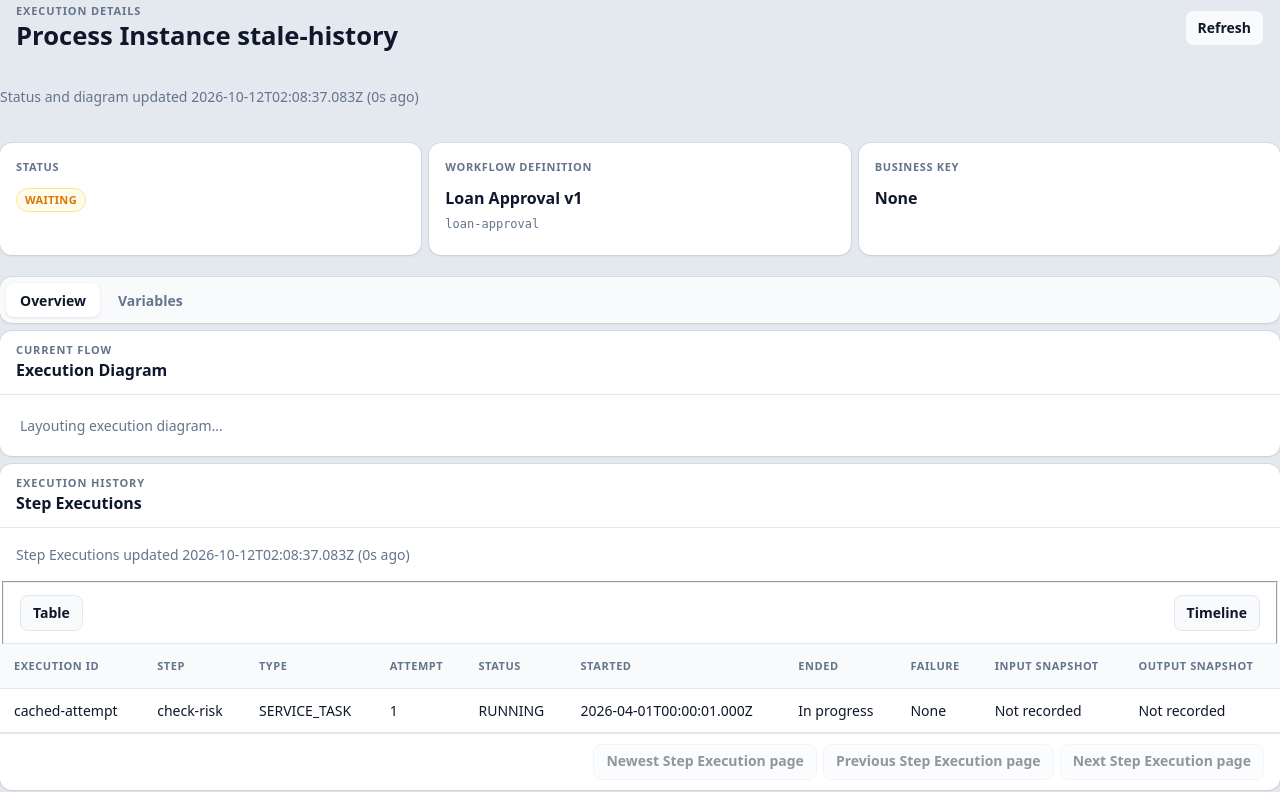
keeps cached Step Executions visible during a temporary failure
The width and height of the screenshot is (1280, 792).
Expected: the cell "cached-attempt" is shown, [0, 688, 143, 732]
Click the button "Refresh" at {"x": 1224, "y": 28}, box [1184, 10, 1264, 46]
(page scrolled)
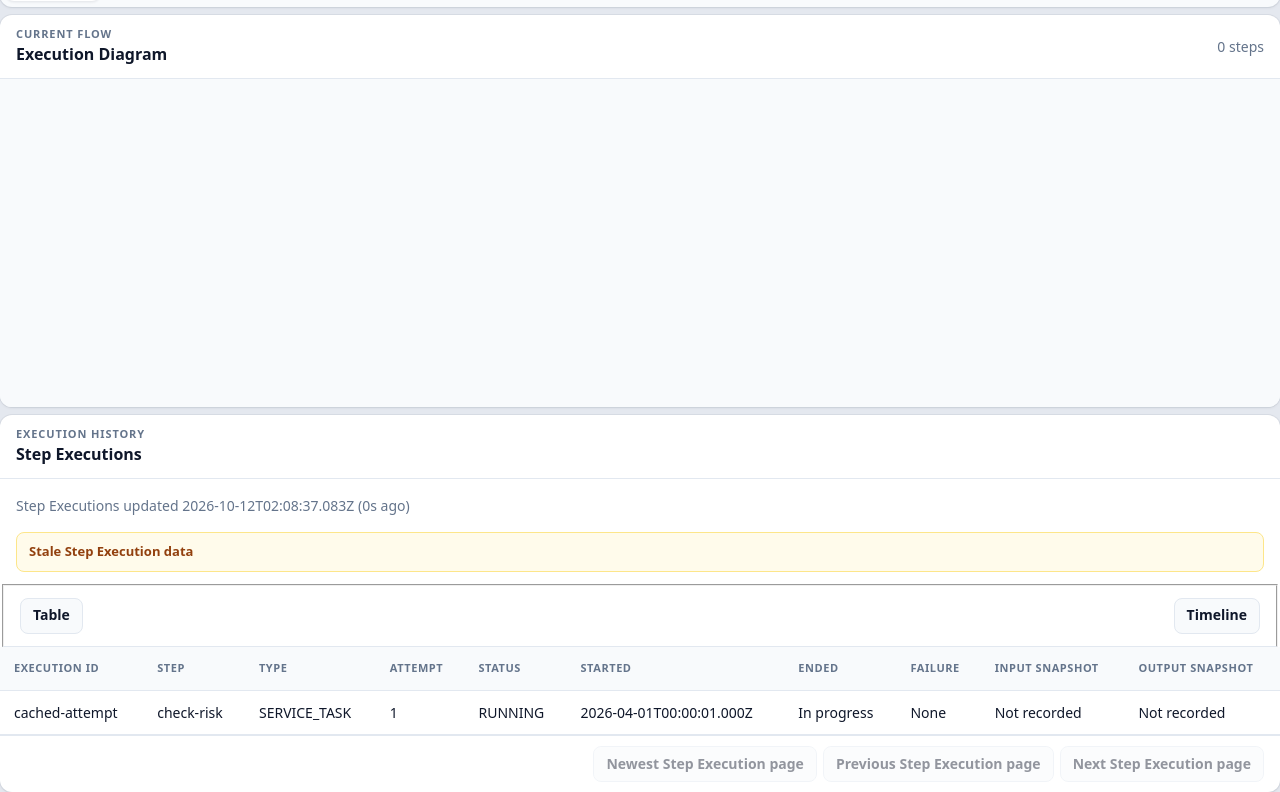
Expected: the cell "cached-attempt" is shown, [0, 691, 143, 735]
Expected: the text "Stale Step Execution data" is shown, [16, 532, 1264, 572]
